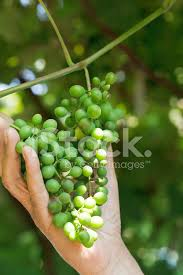grapes: (13, 70, 135, 252)
